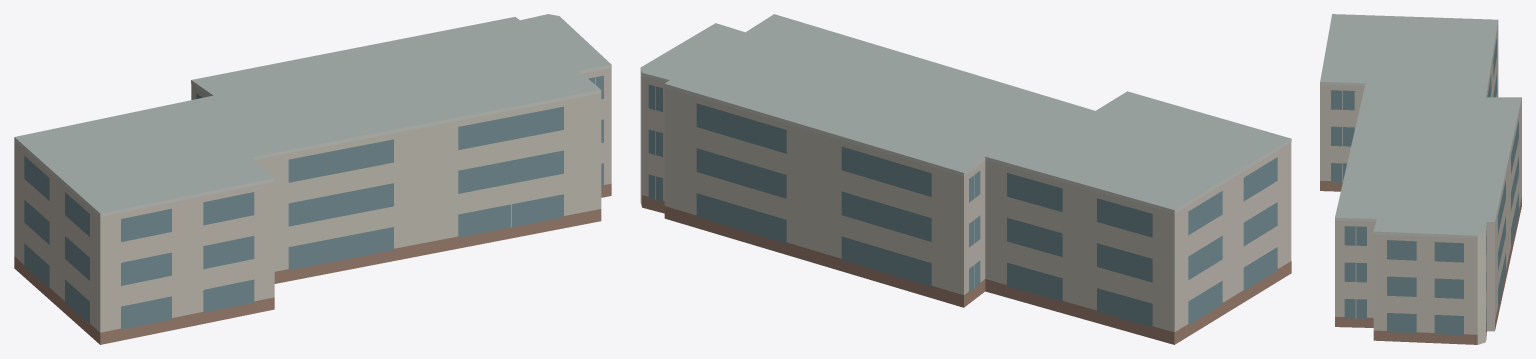
File: survey-upis-32634504.glb
3 renders of one model, left to right at view 1: azimuth 30°, elevation 25°; view 2: azimuth 150°, elevation 25°; view 3: azimuth 270°, elevation 25°, orthographic. The views are drawn at different scales.
Visible parts, largest first — view 1: survey-upis-32634504.tmp; view 2: survey-upis-32634504.tmp; view 3: survey-upis-32634504.tmp.
Boxes of the visible parts, left/top/right/bottom form: survey-upis-32634504.tmp: left=14, top=14, right=611, bottom=344; survey-upis-32634504.tmp: left=640, top=14, right=1291, bottom=344; survey-upis-32634504.tmp: left=1320, top=14, right=1521, bottom=344.
Bounding box in the file's own units: 39.86 × 9.15 × 15.34.
